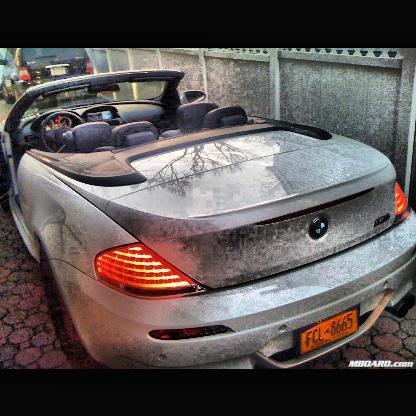BMW M6 Convertible 2010: (3, 68, 416, 368)
